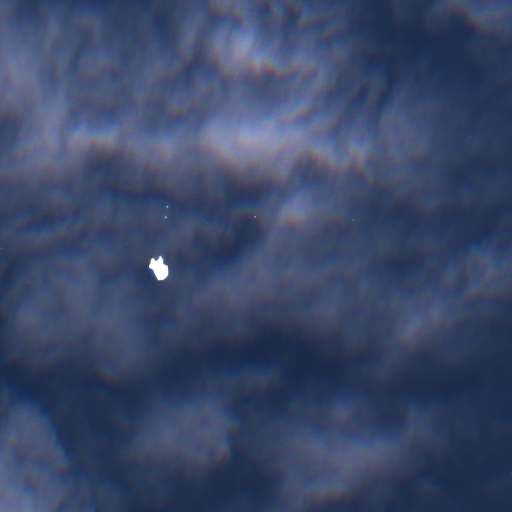Iceberg: (148, 255, 168, 280), (166, 205, 168, 208), (164, 215, 166, 218), (254, 215, 255, 217), (352, 219, 353, 220)
